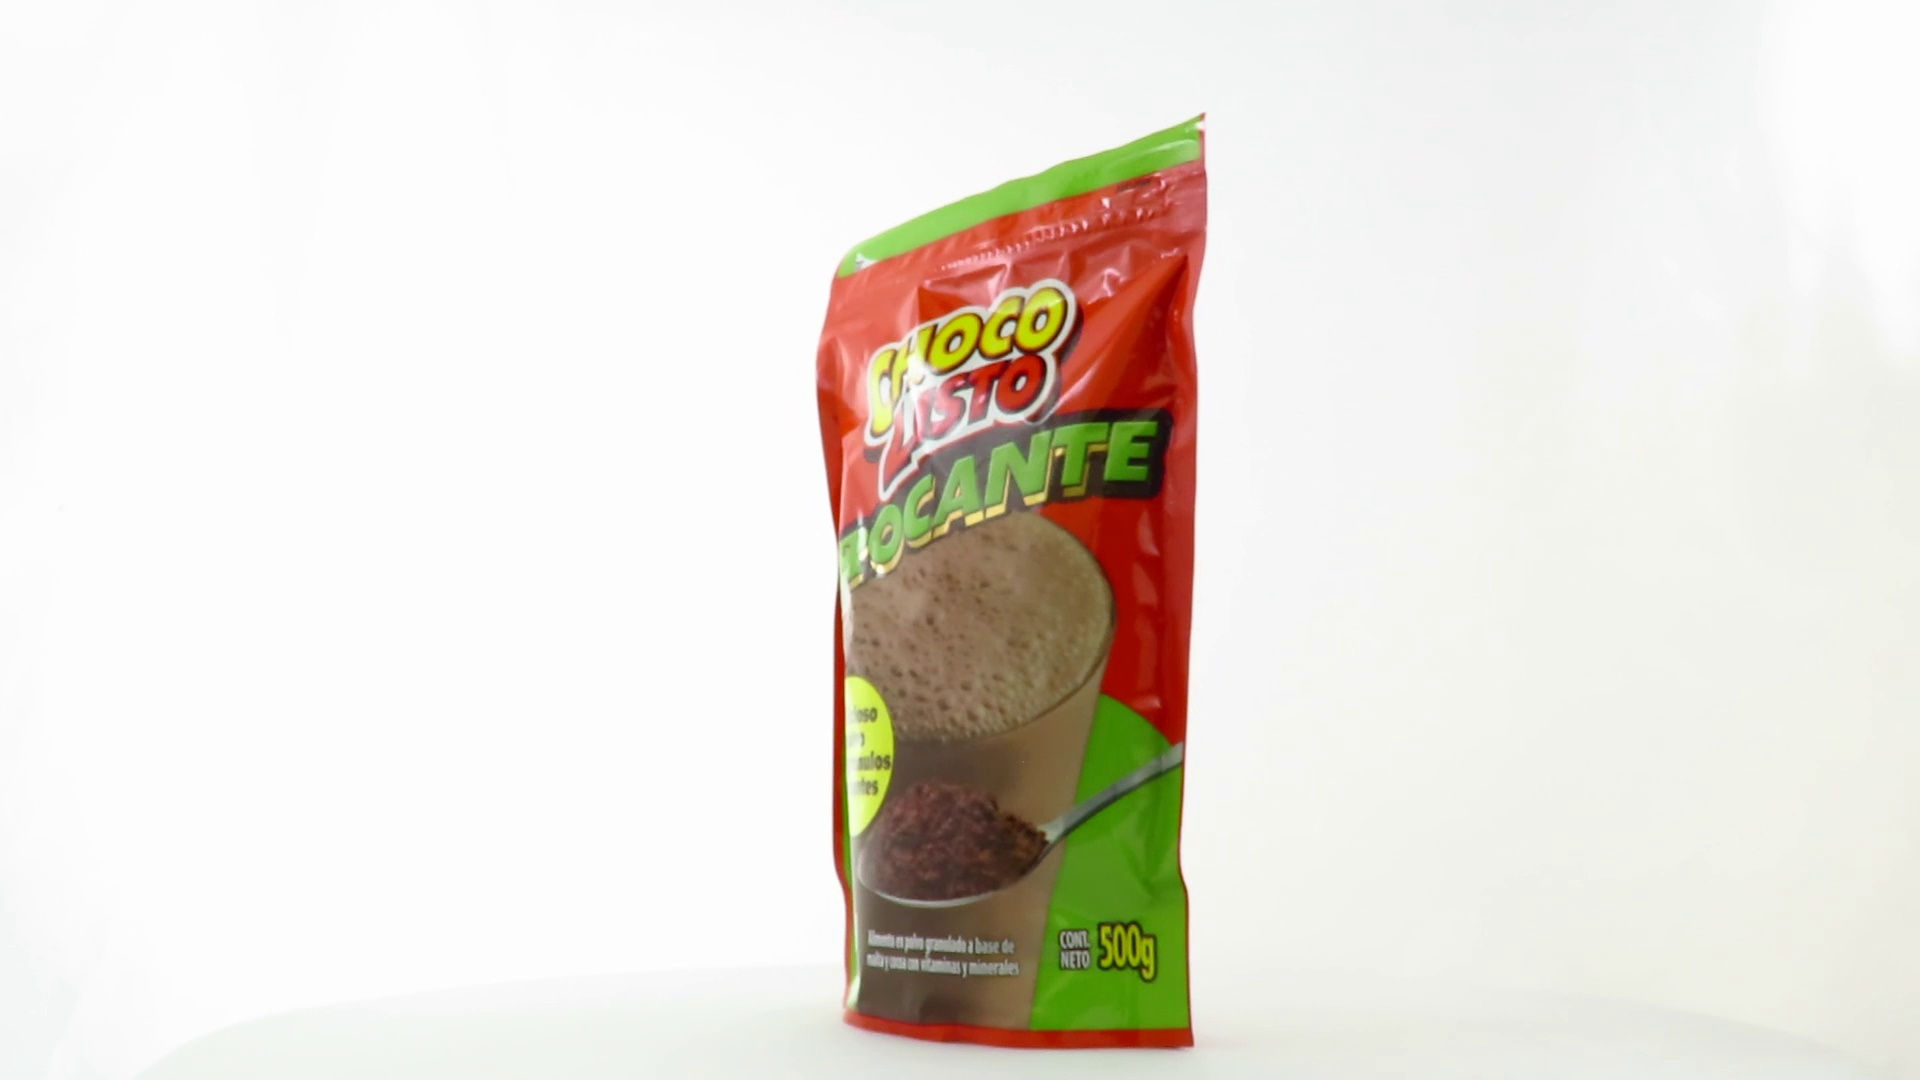COL0170102DYP50000: (811, 107, 1215, 1056)
